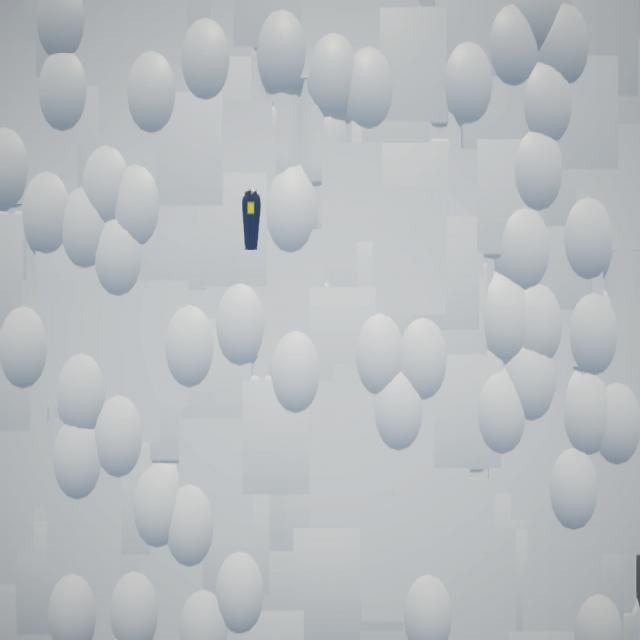handle_folk: (243, 189, 261, 251)
